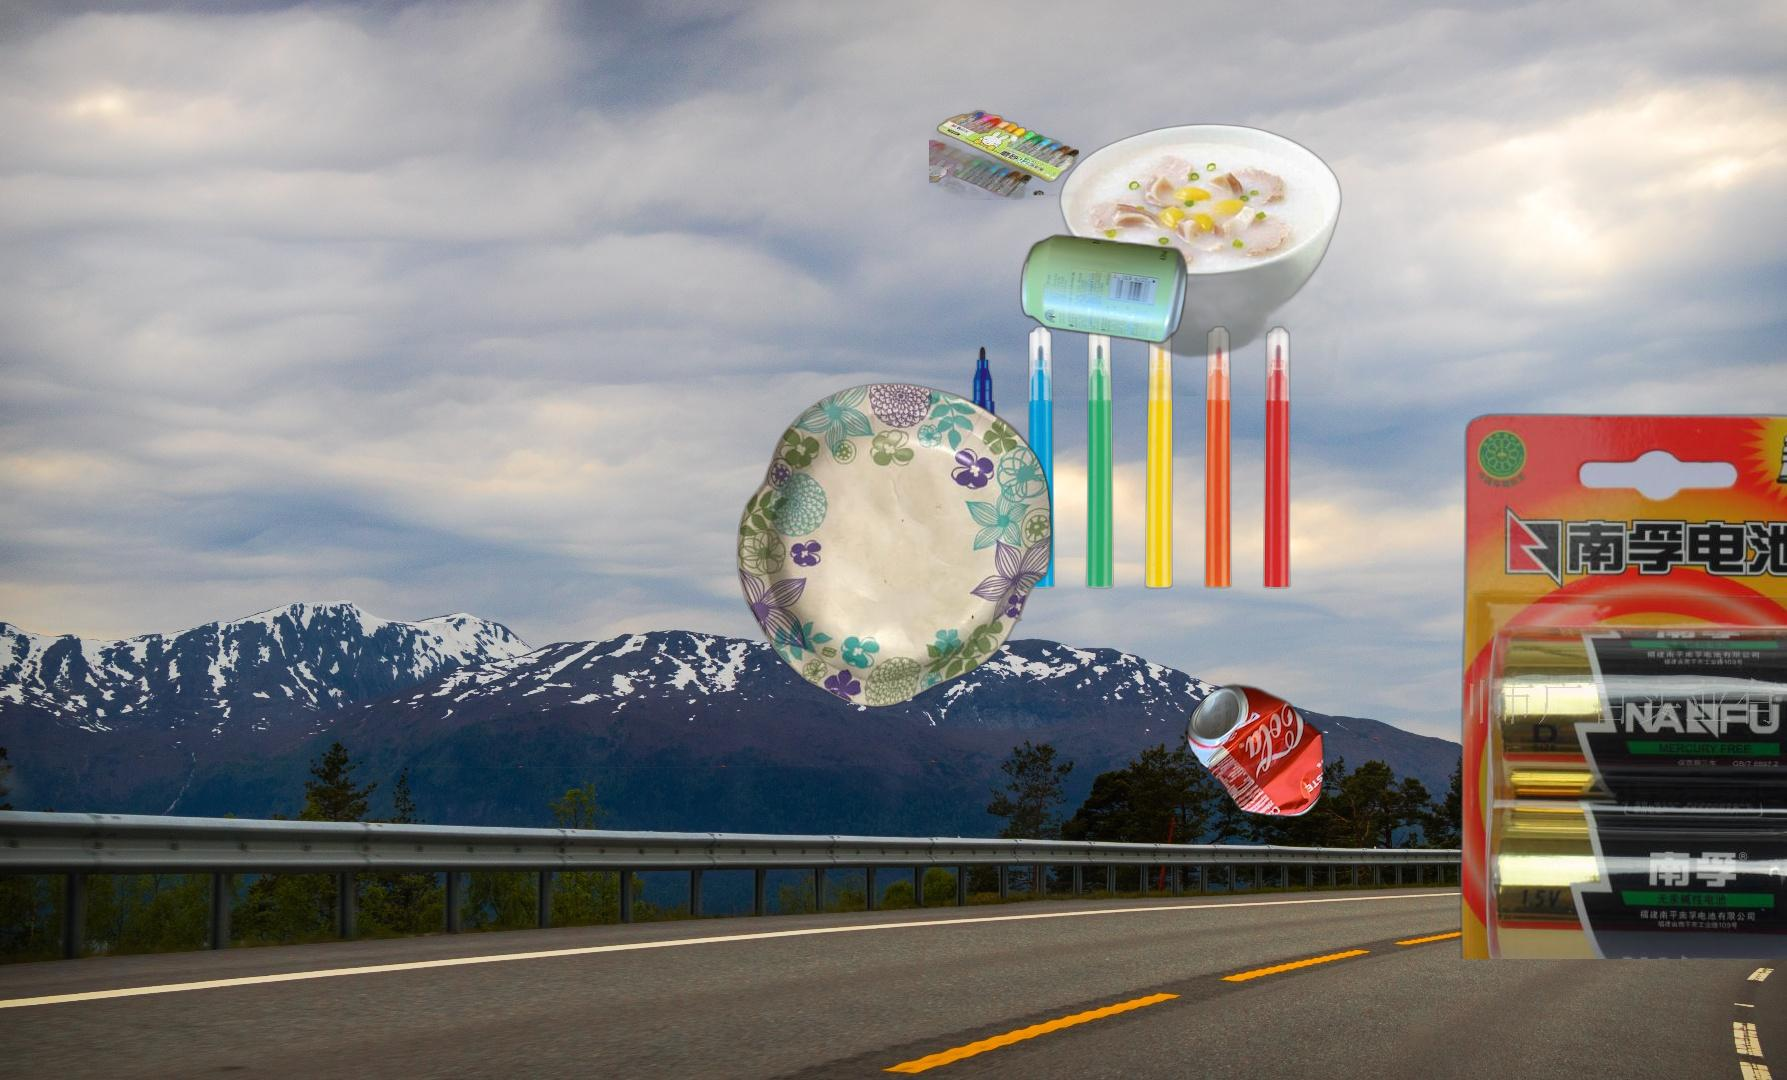battery: (1456, 410, 1787, 959)
biological: (992, 123, 1387, 396)
metal-cans: (1182, 679, 1327, 823), (1017, 230, 1192, 350)
paper: (731, 380, 1056, 710)
penholder: (965, 324, 1322, 618), (929, 107, 1079, 200)
